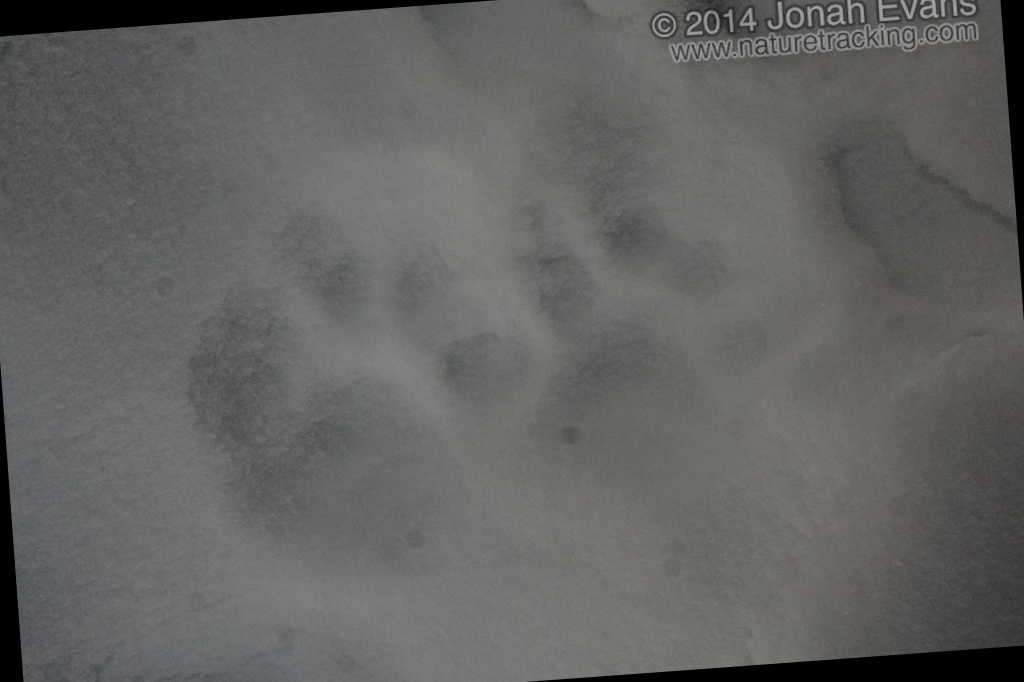lynx: (129, 201, 583, 615)
